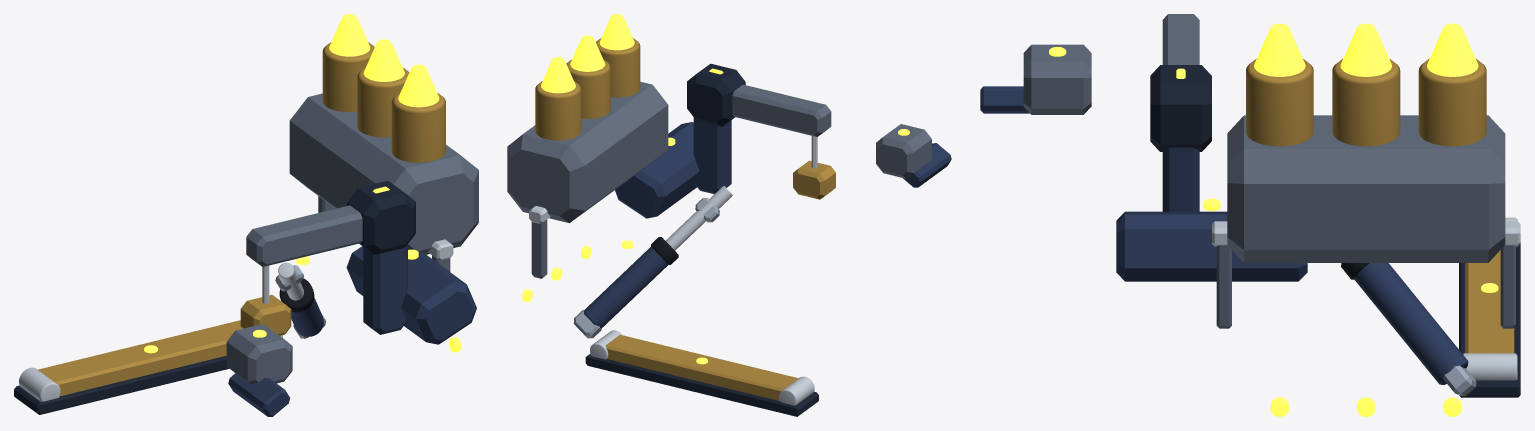
The model's file is tower_nova_rate_s9.glb.
3 renders of one model, left to right at view 1: azimuth 30°, elevation 25°; view 2: azimuth 150°, elevation 25°; view 3: azimuth 270°, elevation 25°, orthographic. The views are drawn at different scales.
Visible parts, largest first — view 1: nova_hopper_ext, nova_conveyor, nova_hoist_chute_b, nova_hoist_arm, nova_hoist_motor, nova_hoist_post, nova_shell_b0, nova_ejector_box, nova_conveyor_frame, nova_shell_b2, nova_shell_b1, nova_ejector_chute (+8 smaller); view 2: nova_hopper_ext, nova_conveyor, nova_hoist_chute_b, nova_hoist_arm, nova_conveyor_frame, nova_hoist_motor, nova_hoist_post, nova_loader_ram_body, nova_shell_b2, nova_ejector_box, nova_shell_b0, nova_shell_b1 (+11 smaller); view 3: nova_hopper_ext, nova_hoist_chute_b, nova_loader_ram_body, nova_hoist_motor, nova_shell_b2, nova_shell_b1, nova_shell_b0, nova_ejector_box, nova_conveyor, nova_hoist_post, nova_conveyor_frame, nova_shell_b_fuse1 (+9 smaller).
Part boxes in pixels (<box>): nova_hopper_ext: <box>289,93,478,254</box>; nova_conveyor: <box>38,320,242,396</box>; nova_hoist_chute_b: <box>346,246,476,344</box>; nova_hoist_arm: <box>246,205,362,266</box>; nova_hoist_motor: <box>347,181,415,254</box>; nova_hoist_post: <box>363,244,407,334</box>; nova_shell_b0: <box>391,93,445,162</box>; nova_ejector_box: <box>226,324,292,383</box>; nova_conveyor_frame: <box>14,356,229,414</box>; nova_shell_b2: <box>322,42,374,112</box>; nova_shell_b1: <box>357,67,409,137</box>; nova_ejector_chute: <box>228,373,289,416</box>; nova_hopper_ext: <box>507,81,668,223</box>; nova_conveyor: <box>605,334,798,400</box>; nova_hoist_chute_b: <box>615,122,699,218</box>; nova_hoist_arm: <box>732,84,831,136</box>; nova_conveyor_frame: <box>585,354,818,416</box>; nova_hoist_motor: <box>687,63,745,126</box>; nova_hoist_post: <box>693,117,731,193</box>; nova_loader_ram_body: <box>583,247,667,328</box>; nova_shell_b2: <box>535,81,581,140</box>; nova_ejector_box: <box>876,124,931,178</box>; nova_shell_b0: <box>596,38,640,97</box>; nova_shell_b1: <box>566,59,610,119</box>; nova_hopper_ext: <box>1227,115,1505,262</box>; nova_hoist_chute_b: <box>1116,211,1307,281</box>; nova_loader_ram_body: <box>1354,263,1468,384</box>; nova_hoist_motor: <box>1150,65,1211,151</box>; nova_shell_b2: <box>1418,58,1486,146</box>; nova_shell_b1: <box>1332,59,1400,146</box>; nova_shell_b0: <box>1246,59,1313,146</box>; nova_ejector_box: <box>1023,44,1091,114</box>; nova_conveyor: <box>1465,250,1514,353</box>; nova_hoist_post: <box>1162,147,1199,211</box>; nova_conveyor_frame: <box>1459,244,1520,397</box>; nova_shell_b_fuse1: <box>1340,23,1391,76</box>.
Bounding box in the file's own units: 1.66 × 1.46 × 1.75.
